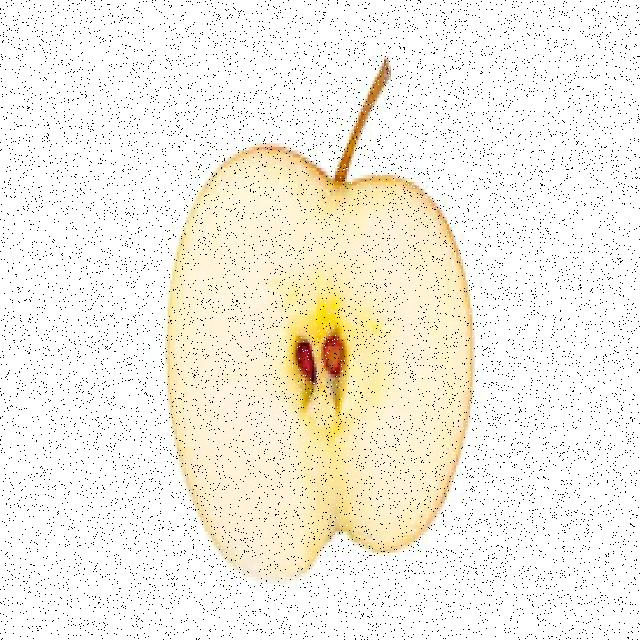Apple: (165, 140, 474, 583)
